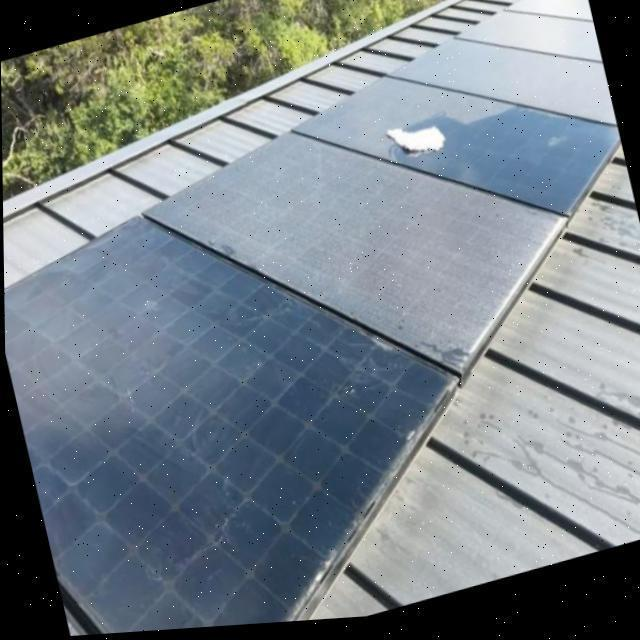Surface Contaminant: (139, 132, 566, 380), (386, 0, 617, 136), (288, 79, 518, 168)
